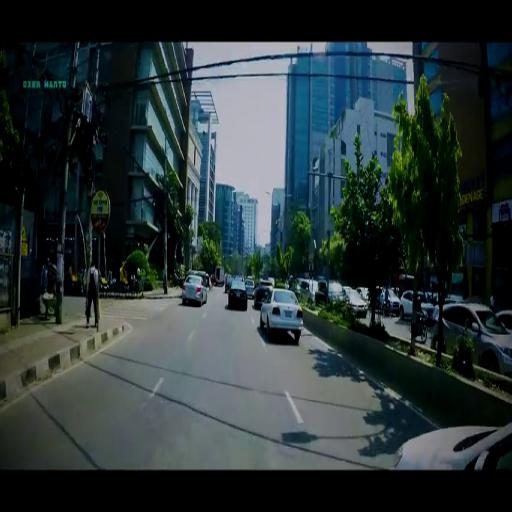car: (431, 301, 512, 371), (260, 289, 304, 338), (399, 290, 435, 318), (182, 274, 208, 305), (345, 288, 369, 316), (228, 280, 248, 311), (378, 288, 400, 313), (246, 279, 255, 297)
motorbike: (410, 314, 428, 343)
suv: (316, 280, 350, 307)
